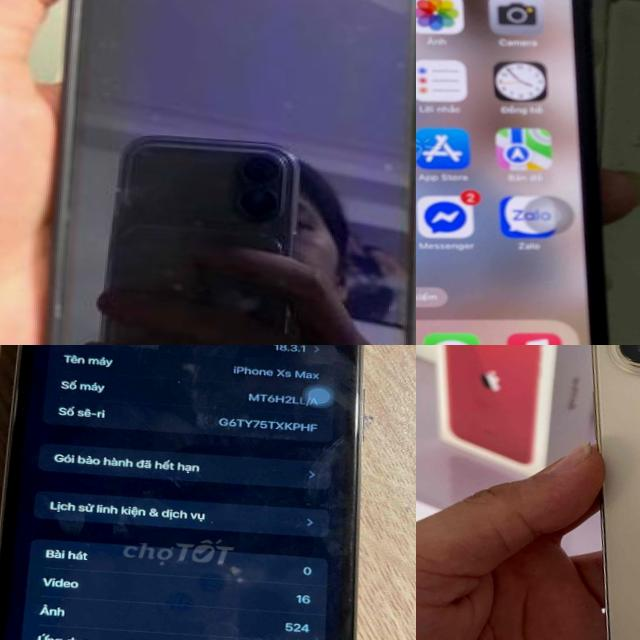scratch: (334, 570, 372, 612)
